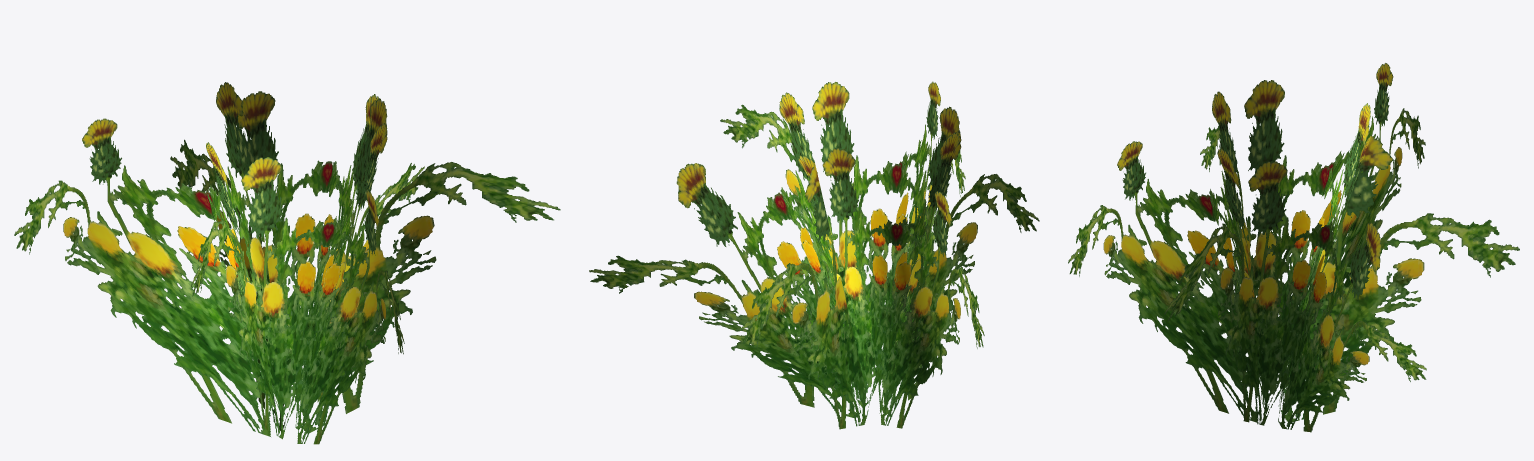
File: bush_swiftthistle01.obj
The picture shows the model from 3 angles, left to right: view 1: azimuth 30°, elevation 25°; view 2: azimuth 150°, elevation 25°; view 3: azimuth 270°, elevation 25°; orthographic projection. The views are drawn at different scales.
Parts seen in each view (by area): view 1: BUSH_SWIFTTHISTLE010; view 2: BUSH_SWIFTTHISTLE010; view 3: BUSH_SWIFTTHISTLE010.
Part boxes in pixels (bbox=[...]): BUSH_SWIFTTHISTLE010: bbox=[14, 82, 560, 444]; BUSH_SWIFTTHISTLE010: bbox=[589, 81, 1039, 429]; BUSH_SWIFTTHISTLE010: bbox=[1068, 63, 1519, 432].
Bounding box in the file's own units: 3.66 × 2.83 × 3.61.
1 material, 1 textured.
